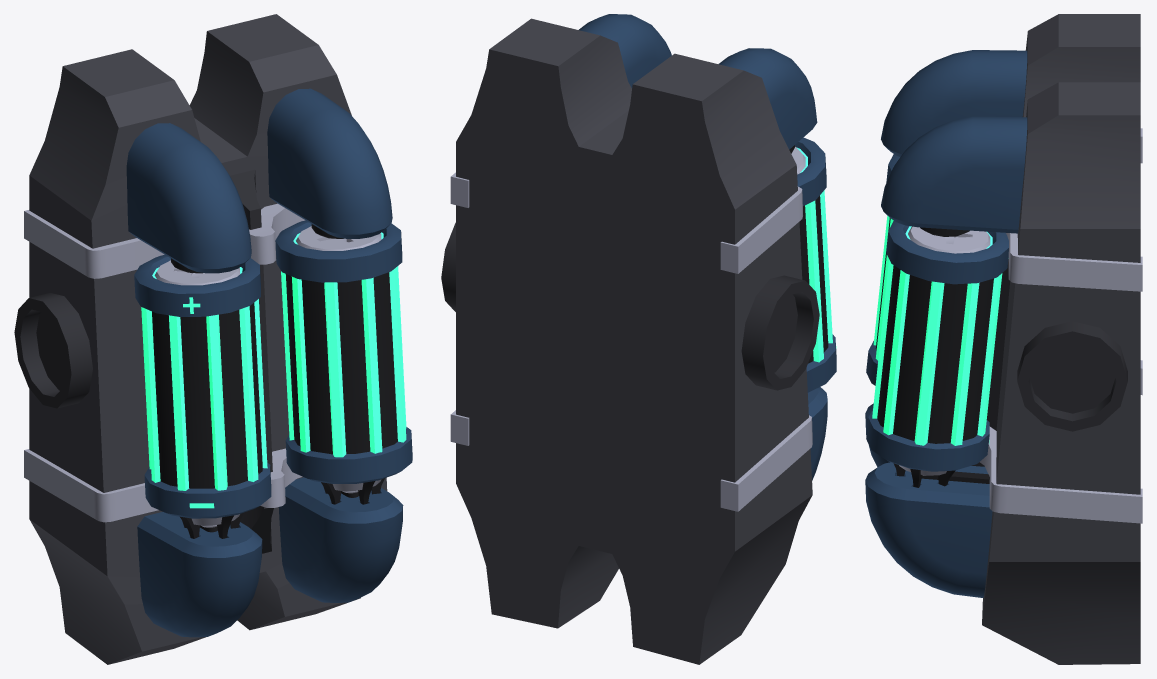
File: Misc_BatteryCharger_X2_B.fbx
The picture shows the model from 3 angles, left to right: view 1: azimuth 30°, elevation 25°; view 2: azimuth 150°, elevation 25°; view 3: azimuth 270°, elevation 25°; orthographic projection. The views are drawn at different scales.
Parts seen in each view (by area): view 1: Misc_BatteryCharger_X2_B.001; view 2: Misc_BatteryCharger_X2_B.001; view 3: Misc_BatteryCharger_X2_B.001.
Part boxes in pixels (bbox=[...]): Misc_BatteryCharger_X2_B.001: bbox=[14, 14, 412, 664]; Misc_BatteryCharger_X2_B.001: bbox=[441, 14, 836, 664]; Misc_BatteryCharger_X2_B.001: bbox=[865, 14, 1142, 664].
Size of the model in its own units: 0.1841 by 0.3091 by 0.141.
